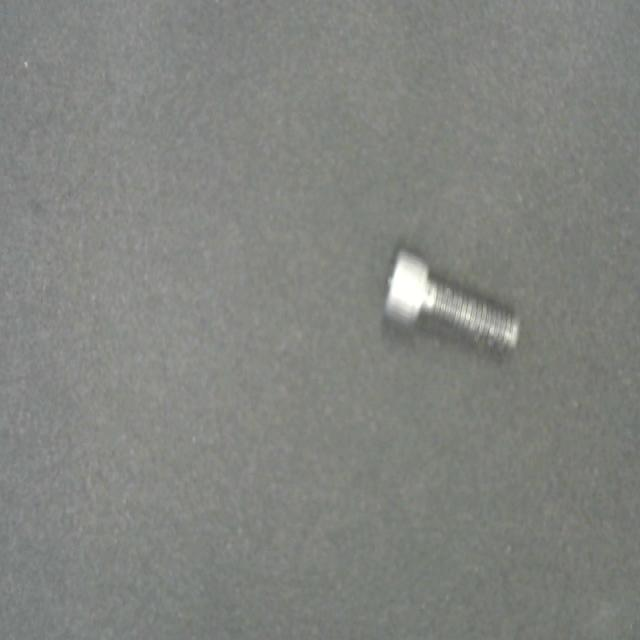SocketHeadCapScrew: (380, 245, 521, 358)
